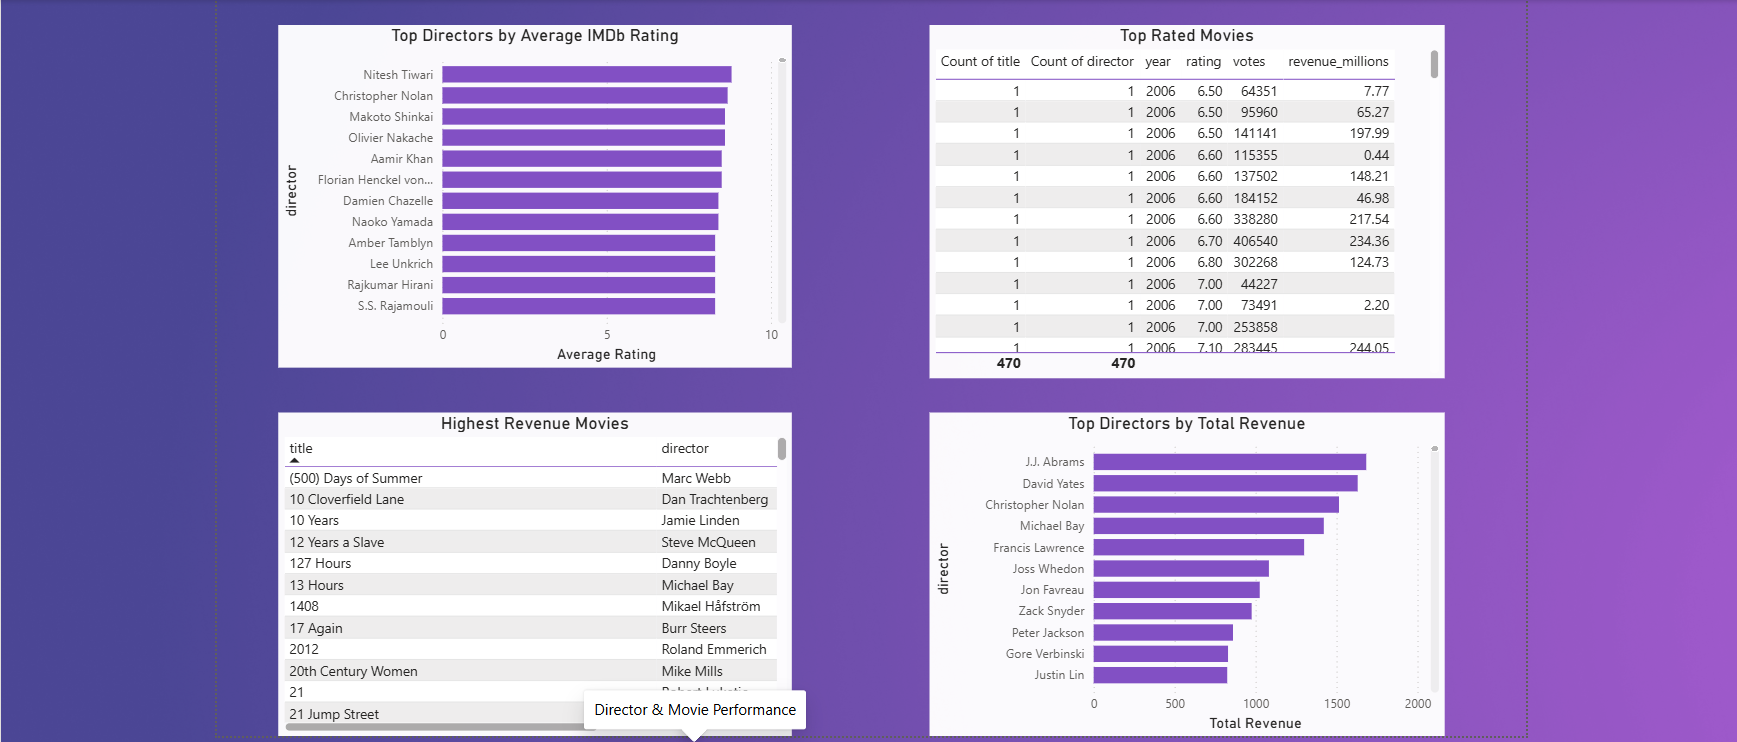

Layout of this report page (visuals, bound fields, positions):
{"tool":"powerbi","page":{"name":"Director & Movie Performance","canvas":[1280,720],"ordinal":2},"visuals":[{"type":"barChart","title":"Top Directors by Average IMDb Rating","fields":{"Y":["fact_movies.Average Rating"],"Category":["fact_movies.director"]},"box":[60.4,24.7,502.2,334.8],"z":0},{"type":"clusteredBarChart","title":"Top Directors by Total Revenue","fields":{"Category":["fact_movies.director"],"Y":["fact_movies.Total Revenue"]},"box":[697.1,403.4,503.6,317],"z":1000},{"type":"tableEx","title":"Top Rated Movies","fields":{"Values":["fact_movies.title","fact_movies.director","fact_movies.year","fact_movies.rating","fact_movies.votes","fact_movies.revenue_millions"]},"box":[697.1,24.7,503.6,345.8],"z":2000},{"type":"tableEx","title":"Highest Revenue Movies","fields":{"Values":["fact_movies.title","fact_movies.director","fact_movies.rating","fact_movies.year","fact_movies.votes","fact_movies.revenue_millions"]},"box":[60.4,403.4,502.2,317],"z":3000}]}

Visuals, with their boxes in screenshot pixels (x1, y1, x2, y2):
"Top Directors by Average IMDb Rating" barChart: (278, 21, 789, 361)
"Top Directors by Total Revenue" clusteredBarChart: (925, 405, 1437, 727)
"Top Rated Movies" tableEx: (925, 21, 1437, 372)
"Highest Revenue Movies" tableEx: (278, 405, 789, 727)
